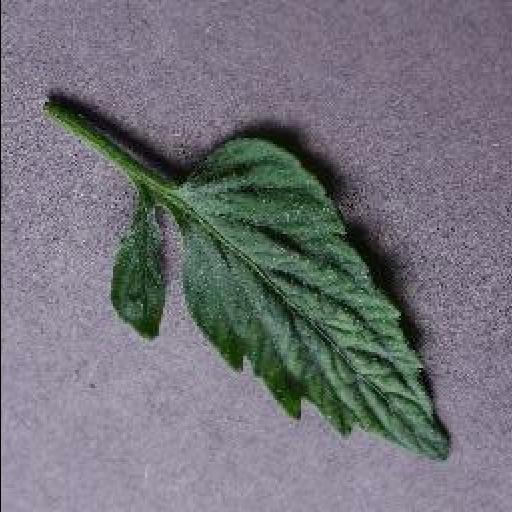disease_tomato: (174, 130, 452, 464)
